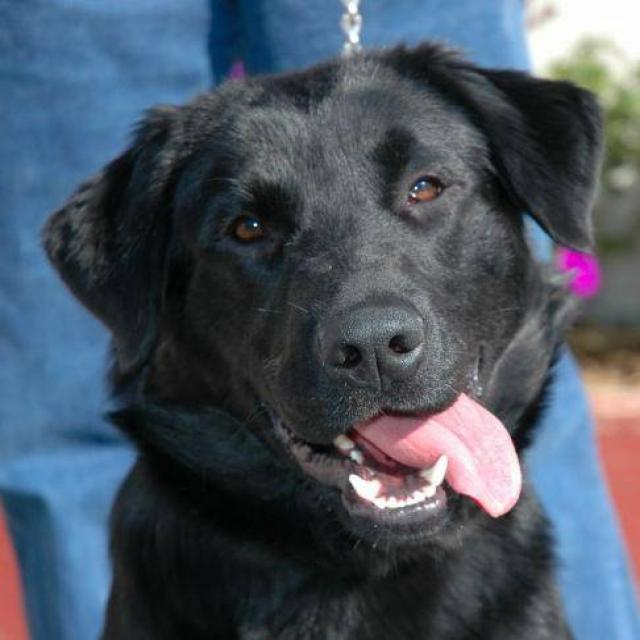dog: (40, 37, 607, 639)
